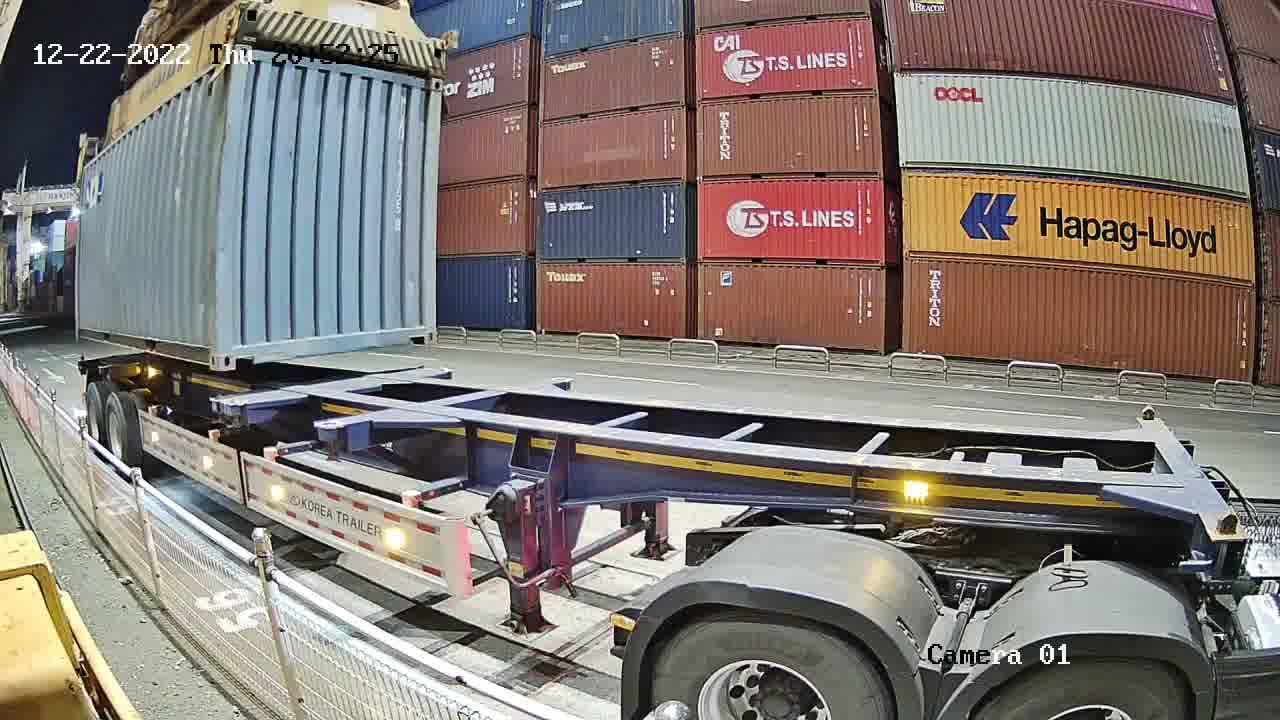Chassis: (230, 368, 454, 411), (214, 365, 434, 402)
Cone: (227, 401, 244, 434), (210, 395, 225, 425)
Hole_L: (219, 335, 252, 371)
Hole_R: (196, 333, 218, 372), (410, 315, 438, 343)
Tire: (106, 394, 130, 469), (85, 388, 105, 448)
